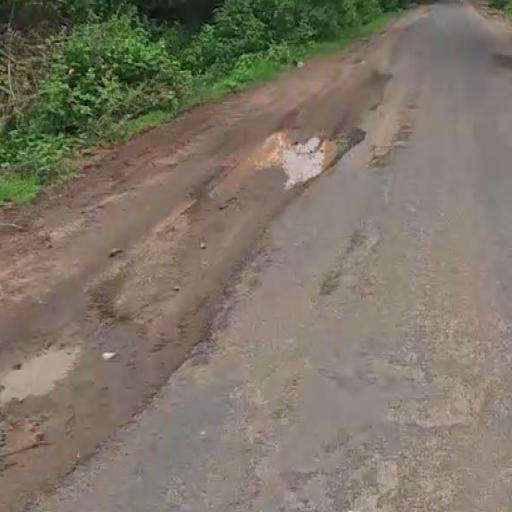edge_damage: (111, 270, 269, 443), (229, 79, 402, 227)
